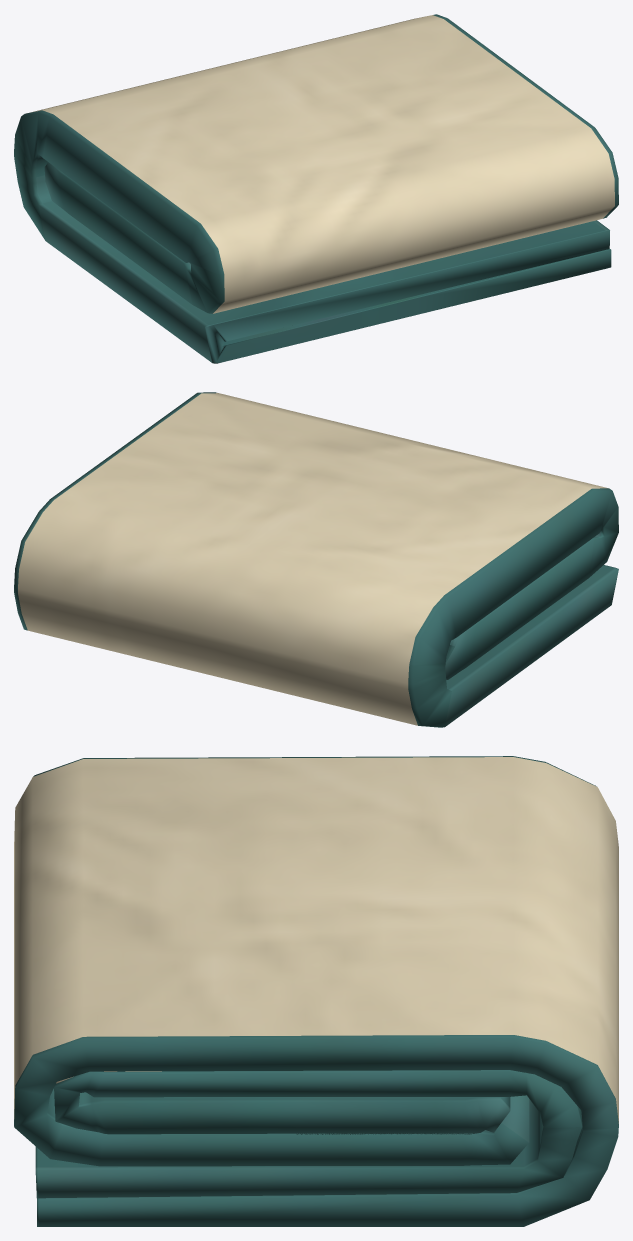
The model's file is 6. N_bedsheet_1.fbx.
The picture shows the model from 3 angles, top to bottom: view 1: azimuth 30°, elevation 25°; view 2: azimuth 150°, elevation 25°; view 3: azimuth 270°, elevation 25°; orthographic projection. The views are drawn at different scales.
Parts seen in each view (by area): view 1: 6. N_bedsheet_1; view 2: 6. N_bedsheet_1; view 3: 6. N_bedsheet_1.
Part boxes in pixels (left/top/right/bottom): 6. N_bedsheet_1: left=14, top=14, right=618, bottom=363; 6. N_bedsheet_1: left=14, top=392, right=618, bottom=727; 6. N_bedsheet_1: left=14, top=756, right=618, bottom=1226.
Size of the model in its own units: 0.3238 by 0.0987 by 0.2857.
